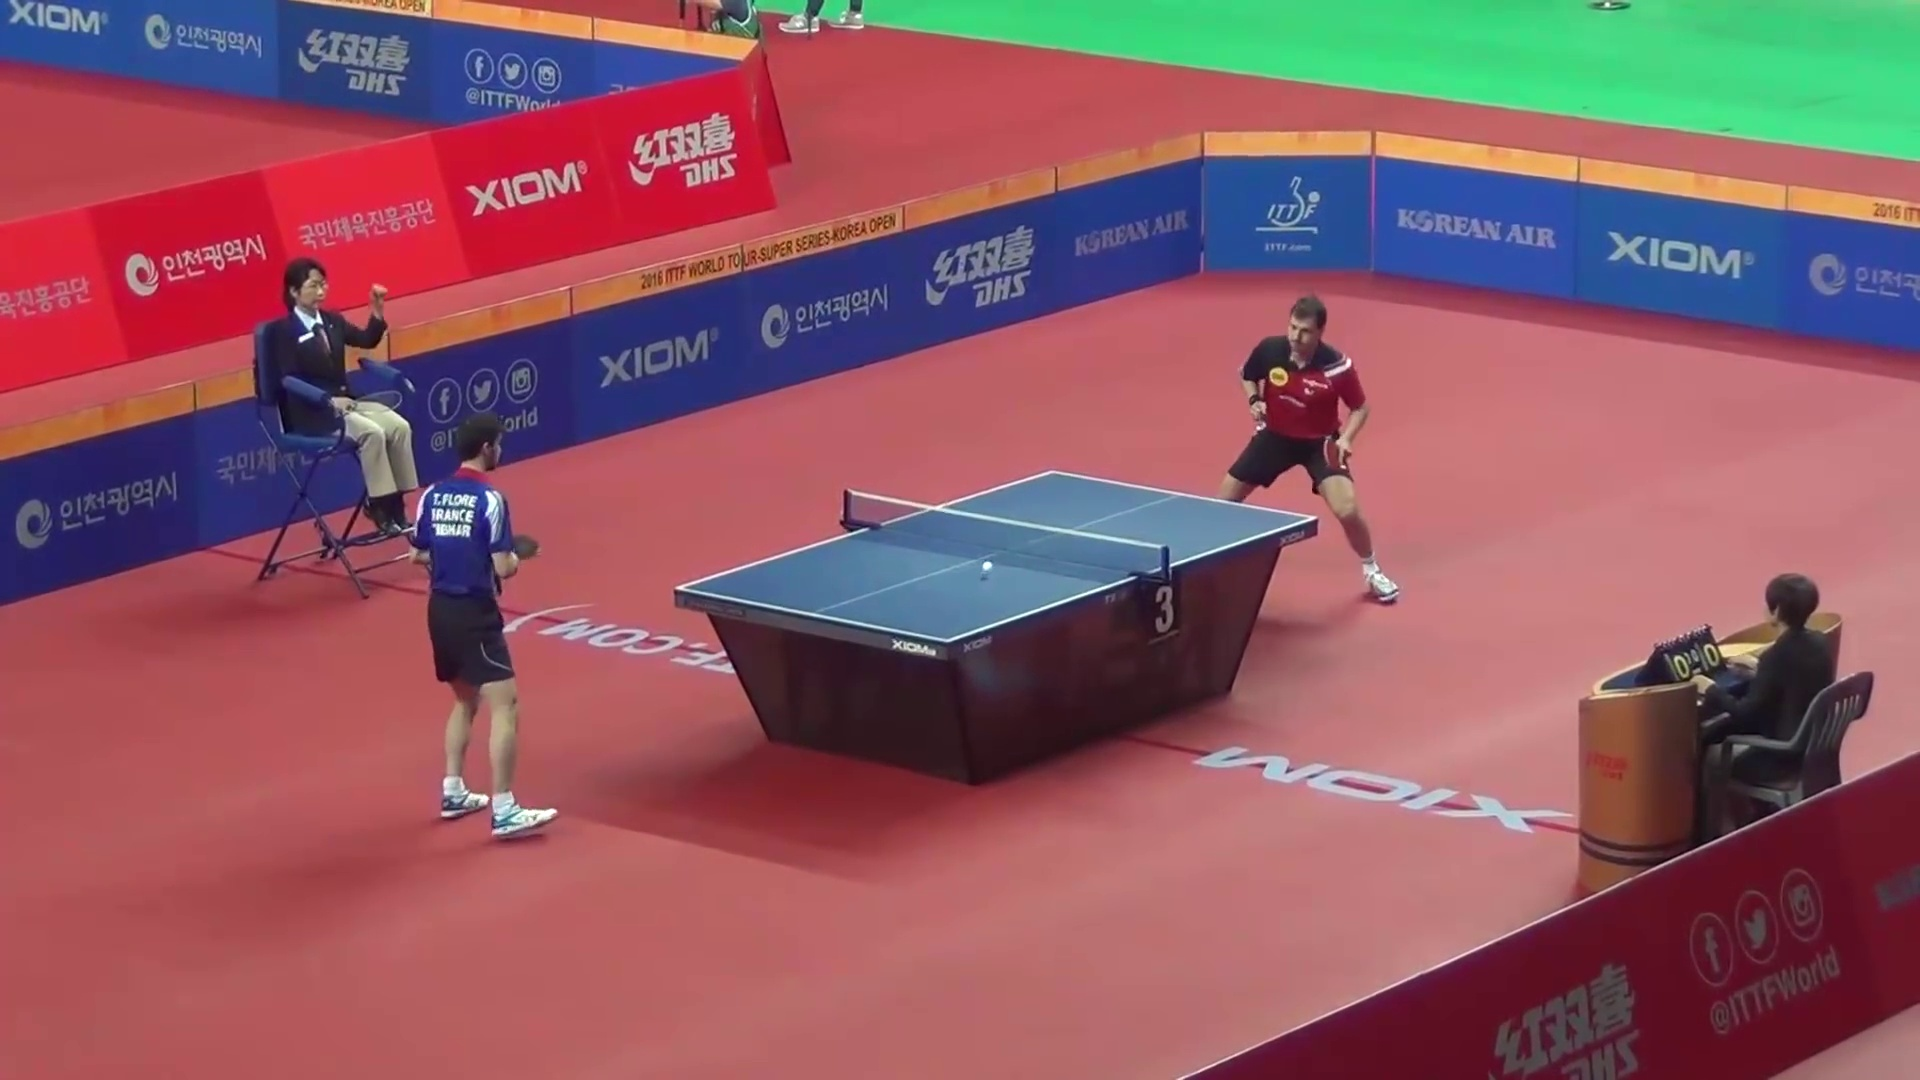raquette_flore_noire: (514, 534, 541, 560)
